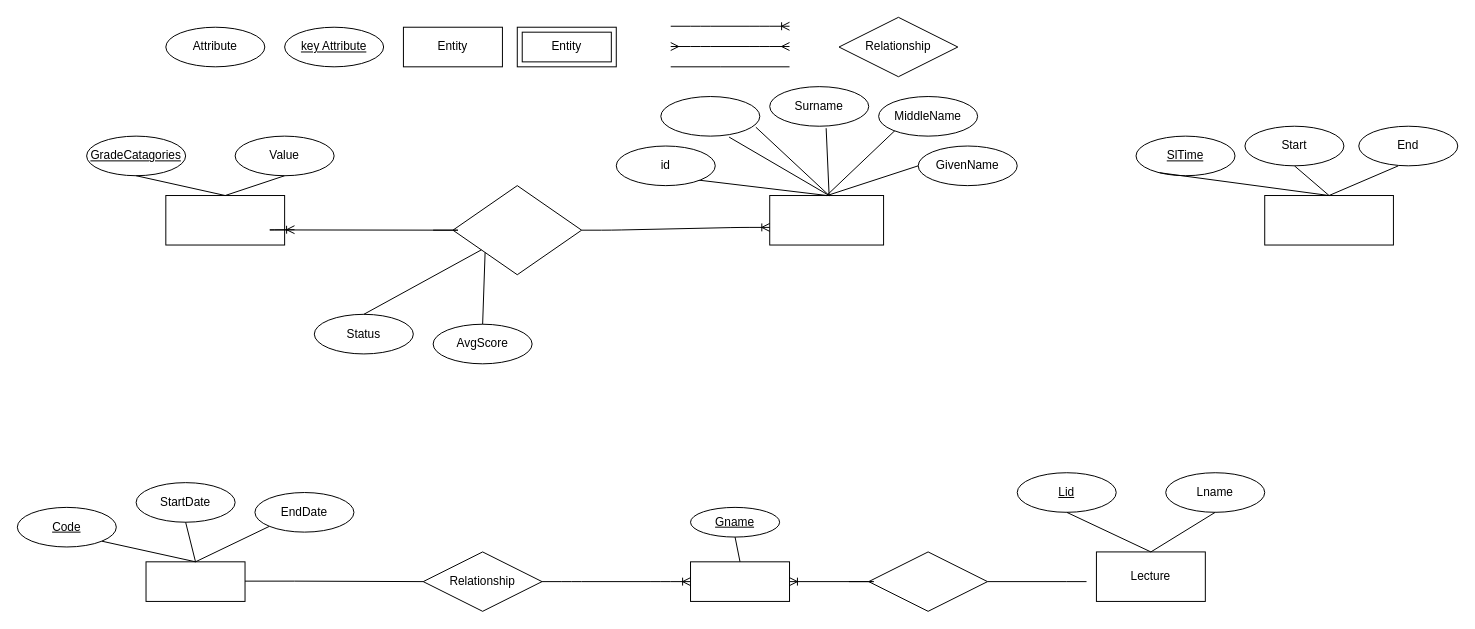
Image size: 1475x629. Some labels were removed from this diagram. The centre of each missing label's shape, as x and y in pixels:
"Course" goes at pixel 195 581.
"GradeDetail" goes at pixel 225 220.
"Group" goes at pixel 740 581.
"Scode" goes at pixel 710 116.
"Slot" goes at pixel 1328 220.
"Student" goes at pixel 826 220.
"Study" goes at pixel 517 230.
"Teach" goes at pixel 928 581.
